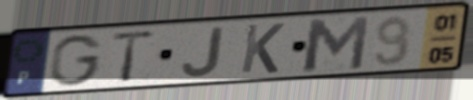9: (373, 14, 417, 68)
G: (48, 33, 106, 88)
J: (179, 24, 226, 79)
K: (238, 22, 287, 75)
M: (301, 14, 373, 74)
T: (108, 28, 160, 85)
